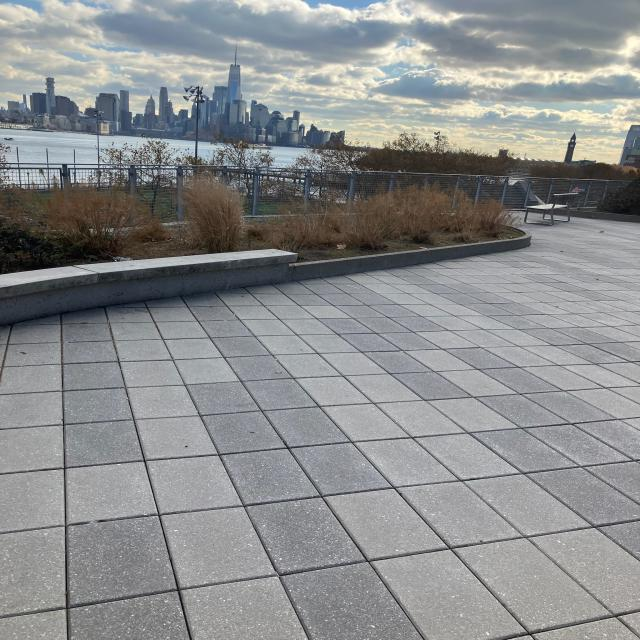WTC: (226, 44, 241, 102)
